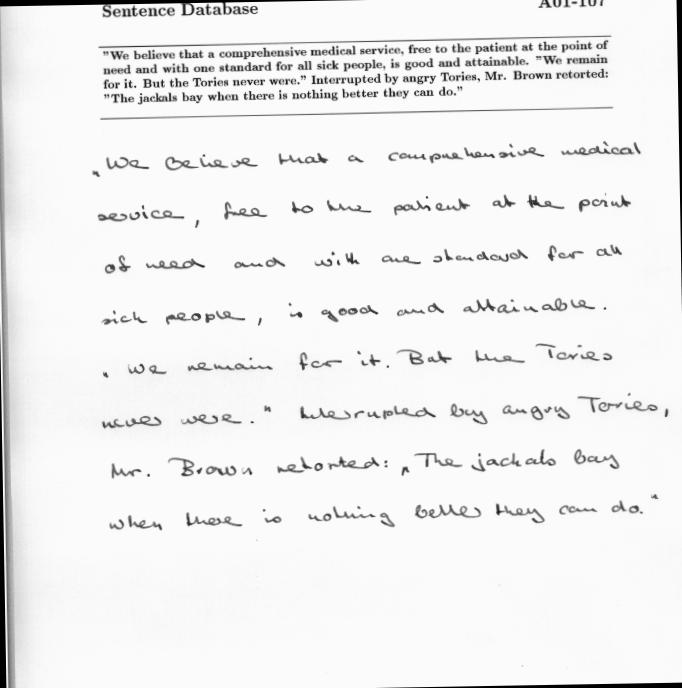text: (97, 388, 674, 433), (92, 186, 634, 233), (103, 492, 660, 536), (89, 136, 644, 180), (97, 337, 616, 380), (105, 444, 622, 486), (99, 238, 627, 278), (96, 291, 611, 331), (99, 48, 608, 78), (101, 64, 608, 92), (99, 38, 609, 64), (100, 80, 464, 106), (98, 1, 261, 20), (535, 0, 608, 9)
